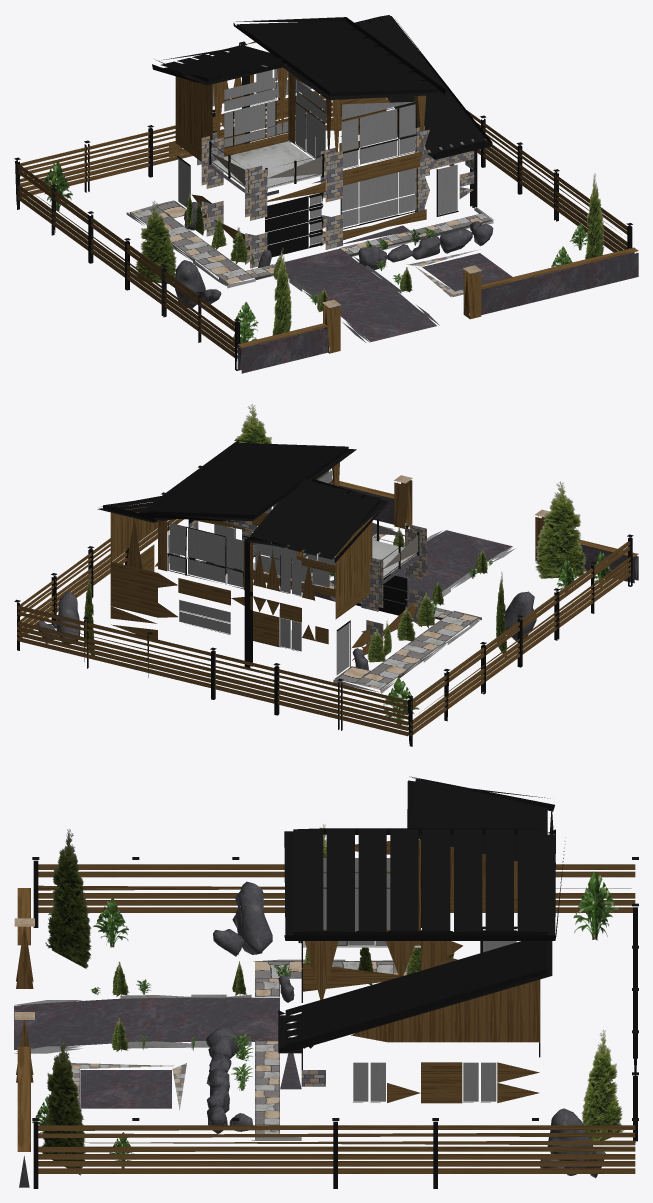
Rendered from house-real-1s2.glb.
3 views of the same model, one above another, from view 1: azimuth 30°, elevation 25°; view 2: azimuth 150°, elevation 25°; view 3: azimuth 270°, elevation 25° (orthographic). The views are drawn at different scales.
Parts seen in each view (by area): view 1: Roof Main, Driveway, Fence, Front fence 2, Roof 3, Fence.002, Path, Fence.001, Window front 2nd floor.001, Window front 1st floor, Garage door, Front fence (+36 smaller); view 2: Fence.002, Roof Main, Fence, Roof 2, Ref house, Window front 2nd floor.002, Driveway, Path, Pine.004, Ref house.002, Fence.001, Ref house.003 (+27 smaller); view 3: Roof Main, Fence.001, Driveway, Roof 3, Ref house.006, Fence, Roof 2, Gutter, Front lawn design, Path, Pine.004, Pine.003 (+22 smaller).
Part boxes in pixels (x1=…): Roof Main: x1=236, y1=20, x2=437, y2=95; Driveway: x1=274, y1=225, x2=436, y2=341; Fence: x1=17, y1=164, x2=237, y2=358; Front fence 2: x1=481, y1=247, x2=638, y2=314; Roof 3: x1=354, y1=15, x2=485, y2=157; Fence.002: x1=20, y1=91, x2=389, y2=197; Path: x1=130, y1=201, x2=491, y2=284; Fence.001: x1=467, y1=110, x2=629, y2=252; Window front 2nd floor.001: x1=341, y1=104, x2=416, y2=168; Window front 1st floor: x1=340, y1=167, x2=417, y2=229; Garage door: x1=265, y1=192, x2=323, y2=257; Front fence: x1=237, y1=323, x2=328, y2=373; Fence.002: x1=17, y1=606, x2=408, y2=736; Roof Main: x1=147, y1=443, x2=348, y2=518; Fence: x1=409, y1=541, x2=630, y2=736; Roof 2: x1=250, y1=479, x2=380, y2=559; Ref house: x1=110, y1=561, x2=252, y2=639; Window front 2nd floor.002: x1=167, y1=523, x2=243, y2=588; Driveway: x1=265, y1=530, x2=512, y2=606; Path: x1=206, y1=561, x2=478, y2=689; Pine.004: x1=535, y1=481, x2=586, y2=578; Ref house.002: x1=335, y1=517, x2=372, y2=660; Fence.001: x1=17, y1=519, x2=183, y2=639; Ref house.003: x1=253, y1=551, x2=328, y2=647; Roof Main: x1=293, y1=828, x2=547, y2=935; Fence.001: x1=38, y1=1125, x2=635, y2=1173; Driveway: x1=14, y1=997, x2=301, y2=1089; Roof 3: x1=285, y1=941, x2=546, y2=1050; Ref house.006: x1=351, y1=979, x2=540, y2=1103; Fence: x1=38, y1=864, x2=635, y2=912; Roof 2: x1=415, y1=778, x2=547, y2=861; Gutter: x1=284, y1=776, x2=565, y2=940; Front lawn design: x1=70, y1=1063, x2=186, y2=1110; Path: x1=255, y1=961, x2=407, y2=1133; Pine.004: x1=45, y1=829, x2=91, y2=968; Pine.003: x1=42, y1=1035, x2=85, y2=1175.
Bounding box in the file's own units: 20.97 × 8.4 × 20.97.
4 materials, 4 textured.
